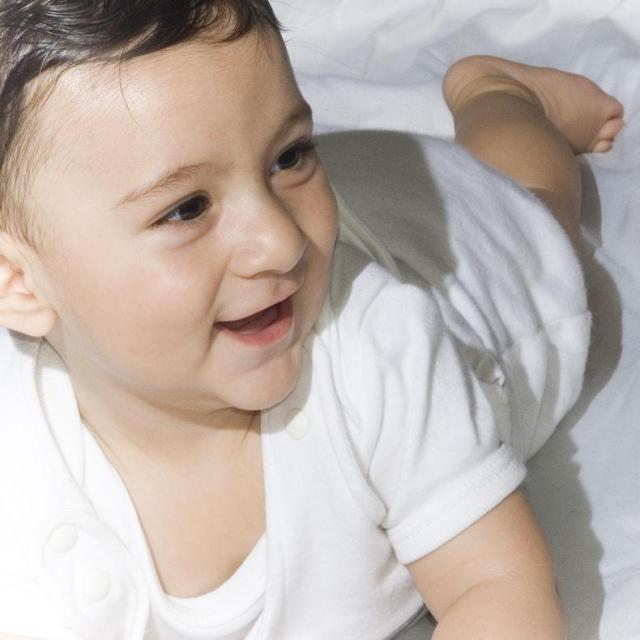no-glass: (143, 137, 314, 235)
